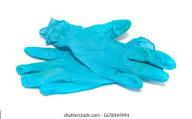Glove: (40, 19, 175, 87), (16, 47, 113, 94), (17, 47, 112, 94)
